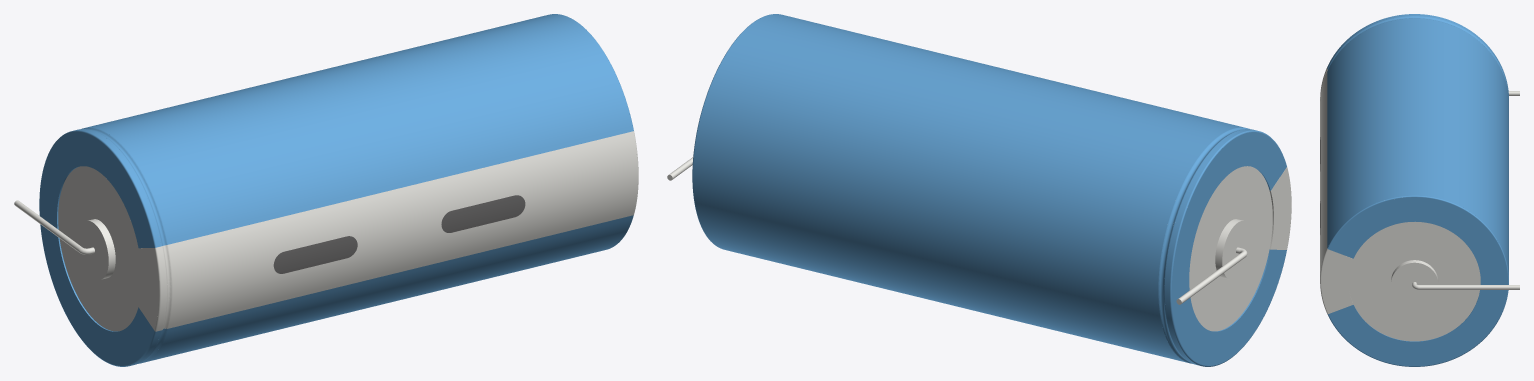
The model's file is CP_Axial_L80.0mm_D35.0mm_P85.00mm_Horizontal.glb.
The picture shows the model from 3 angles, left to right: view 1: azimuth 30°, elevation 25°; view 2: azimuth 150°, elevation 25°; view 3: azimuth 270°, elevation 25°; orthographic projection. The views are drawn at different scales.
Parts seen in each view (by area): view 1: Shape_IndexedFaceSet.009, Shape_IndexedFaceSet.049, Shape_IndexedFaceSet.006, Shape_IndexedFaceSet.064, Shape_IndexedFaceSet.028, Shape_IndexedFaceSet.018, Shape_IndexedFaceSet.041, Shape_IndexedFaceSet.062, Shape_IndexedFaceSet, Shape_IndexedFaceSet.005, Shape_IndexedFaceSet.003, Shape_IndexedFaceSet.051; view 2: Shape_IndexedFaceSet.009, Shape_IndexedFaceSet.006, Shape_IndexedFaceSet.064, Shape_IndexedFaceSet, Shape_IndexedFaceSet.041, Shape_IndexedFaceSet.005, Shape_IndexedFaceSet.062, Shape_IndexedFaceSet.003, Shape_IndexedFaceSet.007, Shape_IndexedFaceSet.051; view 3: Shape_IndexedFaceSet.009, Shape_IndexedFaceSet.012, Shape_IndexedFaceSet.059, Shape_IndexedFaceSet.046, Shape_IndexedFaceSet.057, Shape_IndexedFaceSet.049, Shape_IndexedFaceSet.011, Shape_IndexedFaceSet.055, Shape_IndexedFaceSet, Shape_IndexedFaceSet.005, Shape_IndexedFaceSet.002.
Part boxes in pixels (left/top/right/bottom): Shape_IndexedFaceSet.009: left=87, top=14, right=633, bottom=362; Shape_IndexedFaceSet.049: left=168, top=131, right=637, bottom=328; Shape_IndexedFaceSet.006: left=39, top=132, right=154, bottom=365; Shape_IndexedFaceSet.064: left=58, top=166, right=141, bottom=331; Shape_IndexedFaceSet.028: left=441, top=195, right=525, bottom=232; Shape_IndexedFaceSet.018: left=273, top=236, right=357, bottom=273; Shape_IndexedFaceSet.041: left=138, top=248, right=158, bottom=330; Shape_IndexedFaceSet.062: left=78, top=220, right=108, bottom=279; Shape_IndexedFaceSet: left=74, top=129, right=161, bottom=365; Shape_IndexedFaceSet.005: left=84, top=128, right=166, bottom=362; Shape_IndexedFaceSet.003: left=39, top=130, right=156, bottom=366; Shape_IndexedFaceSet.051: left=14, top=200, right=82, bottom=251; Shape_IndexedFaceSet.009: left=693, top=14, right=1243, bottom=362; Shape_IndexedFaceSet.006: left=1171, top=132, right=1286, bottom=365; Shape_IndexedFaceSet.064: left=1189, top=166, right=1272, bottom=331; Shape_IndexedFaceSet: left=1164, top=129, right=1256, bottom=365; Shape_IndexedFaceSet.041: left=1271, top=167, right=1291, bottom=249; Shape_IndexedFaceSet.005: left=1159, top=128, right=1246, bottom=362; Shape_IndexedFaceSet.062: left=1222, top=221, right=1252, bottom=279; Shape_IndexedFaceSet.003: left=1170, top=130, right=1286, bottom=366; Shape_IndexedFaceSet.007: left=1158, top=127, right=1249, bottom=363; Shape_IndexedFaceSet.051: left=1178, top=252, right=1245, bottom=303; Shape_IndexedFaceSet.009: left=1327, top=18, right=1508, bottom=274; Shape_IndexedFaceSet.012: left=1328, top=197, right=1507, bottom=366; Shape_IndexedFaceSet.059: left=1348, top=221, right=1480, bottom=341; Shape_IndexedFaceSet.046: left=1321, top=249, right=1353, bottom=313; Shape_IndexedFaceSet.057: left=1391, top=262, right=1438, bottom=305; Shape_IndexedFaceSet.049: left=1320, top=72, right=1327, bottom=278; Shape_IndexedFaceSet.011: left=1327, top=195, right=1508, bottom=366; Shape_IndexedFaceSet.055: left=1419, top=285, right=1519, bottom=289; Shape_IndexedFaceSet: left=1327, top=14, right=1508, bottom=94; Shape_IndexedFaceSet.005: left=1328, top=17, right=1505, bottom=79; Shape_IndexedFaceSet.002: left=1327, top=16, right=1508, bottom=97.
Bounding box in the file's own units: 33.82 × 13.78 × 14.57.
